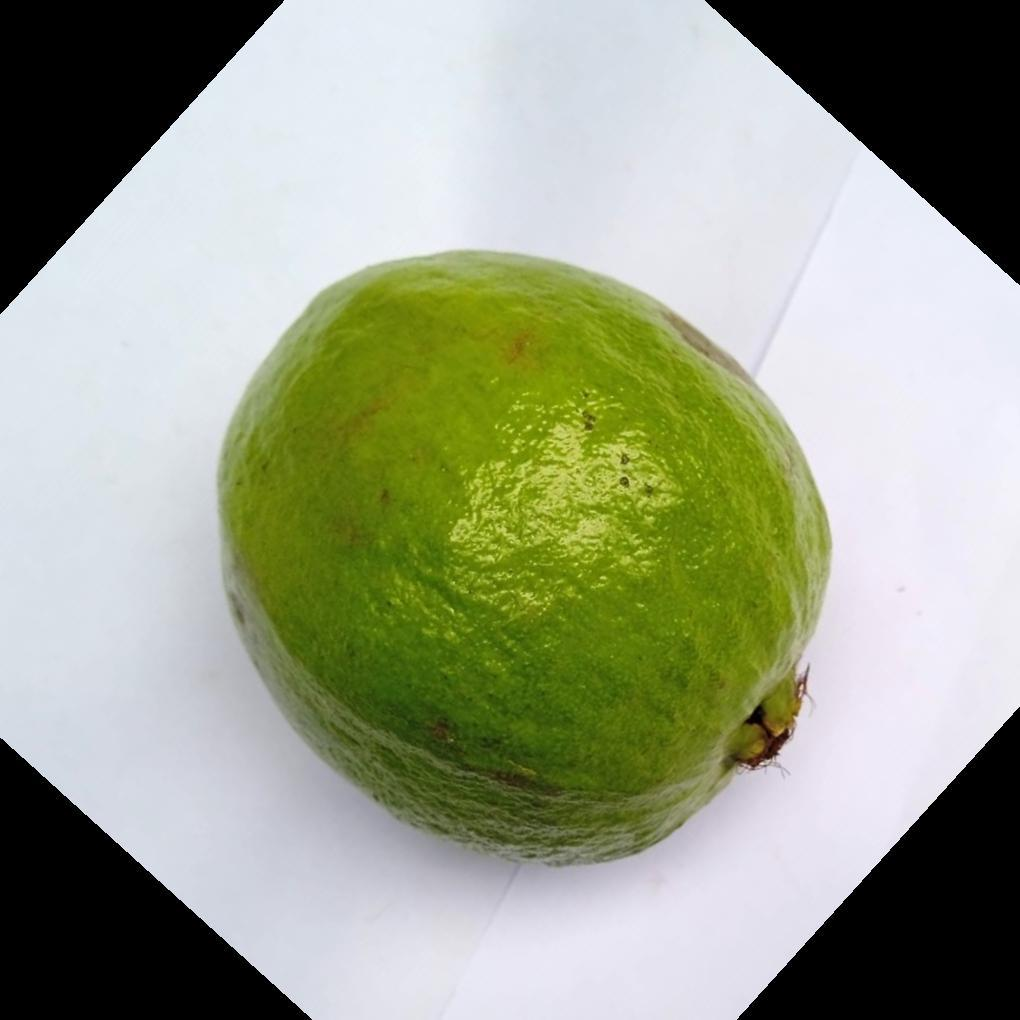FreshGuava: (211, 249, 835, 872)
